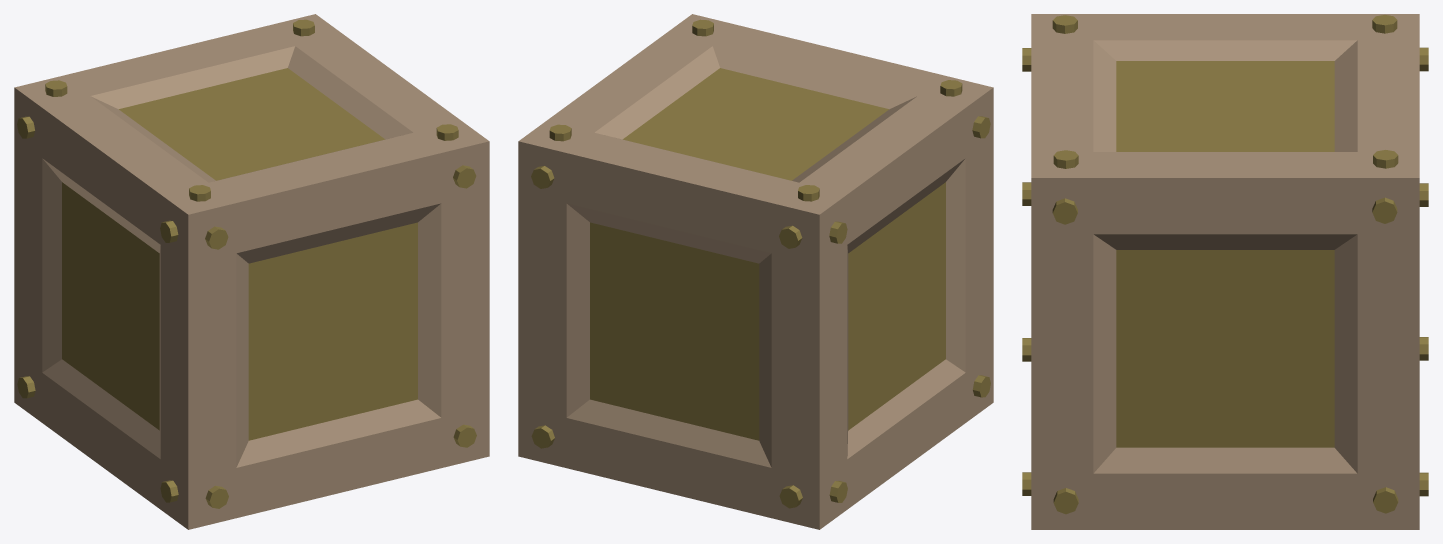
File: Metal Block-transformed.glb
3 views of the same model, side by side, from view 1: azimuth 30°, elevation 25°; view 2: azimuth 150°, elevation 25°; view 3: azimuth 270°, elevation 25° (orthographic). The views are drawn at different scales.
Parts seen in each view (by area): view 1: Block_Metal; view 2: Block_Metal; view 3: Block_Metal.
Boxes of the visible parts, left/top/right/bottom form: Block_Metal: left=14, top=14, right=489, bottom=529; Block_Metal: left=518, top=14, right=993, bottom=529; Block_Metal: left=1022, top=14, right=1428, bottom=529.
Bounding box in the file's own units: 2.09 × 2.09 × 2.09.
Materials: 1 (1 with a texture image).
